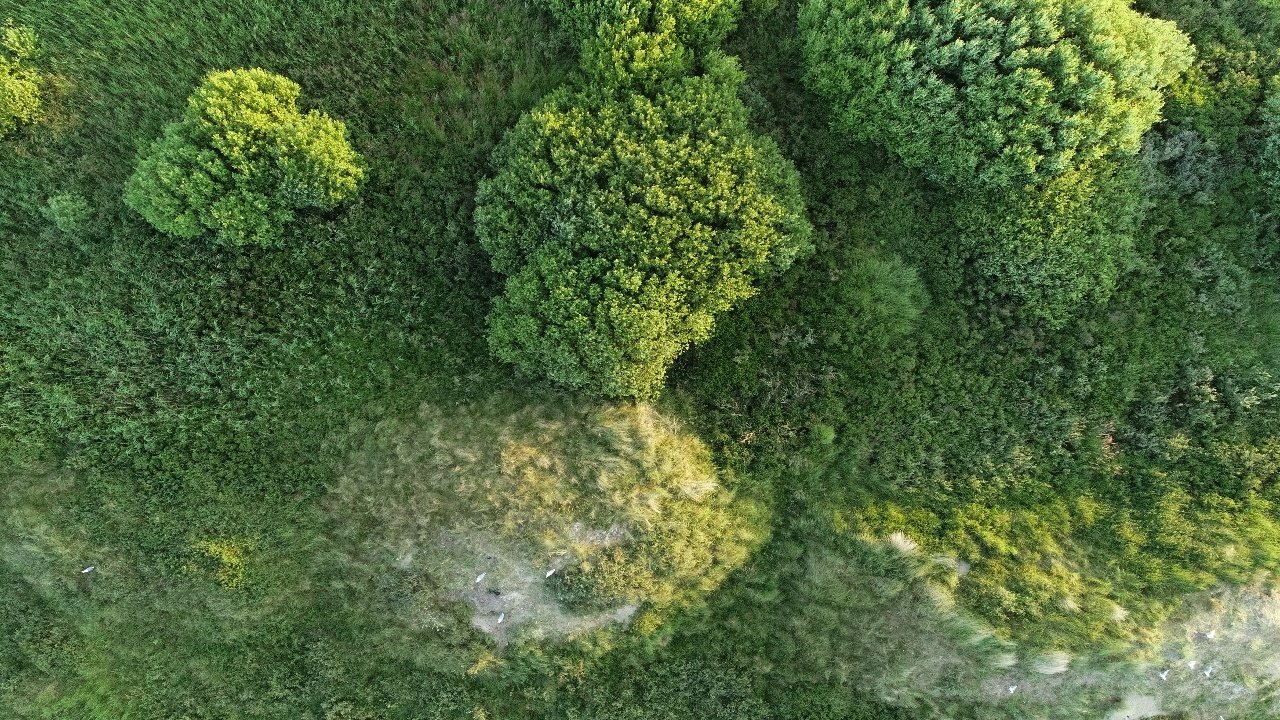Bird: (994, 671, 1030, 703), (1152, 659, 1188, 691), (1192, 617, 1228, 649), (72, 552, 104, 586), (464, 559, 496, 593), (534, 556, 566, 590), (485, 597, 517, 631), (1194, 657, 1227, 689), (1173, 644, 1206, 676)
